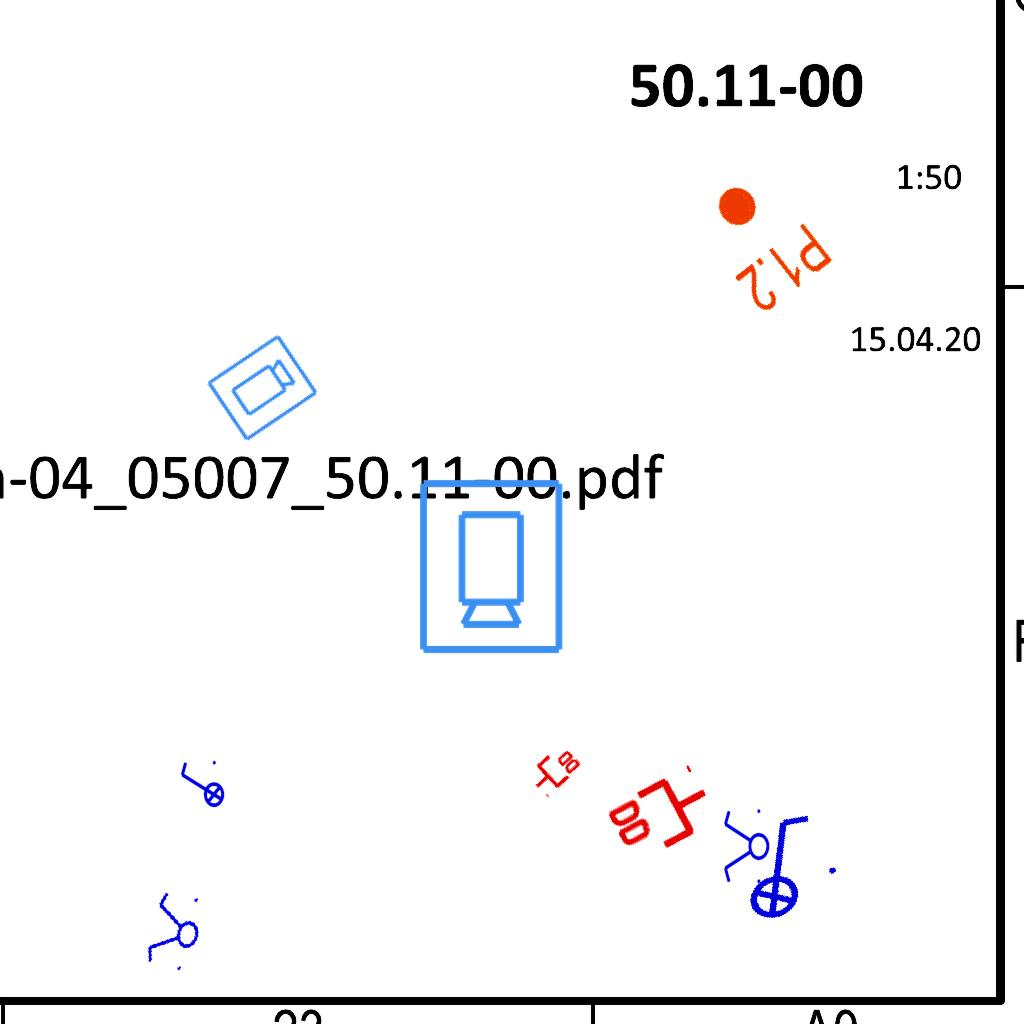Ausschalter_beleuchtet: (707, 798, 851, 934), (177, 758, 225, 814)
Datenanschluss_zweifach: (600, 761, 725, 872), (523, 739, 585, 800)
Downlight_LED_Einbauleuchten_Flur: (685, 160, 838, 320)
KFO_Kamera_mit_Festobjektiv: (413, 475, 567, 657), (203, 331, 322, 446)
Serienschalter: (141, 885, 209, 979), (722, 805, 770, 889)
